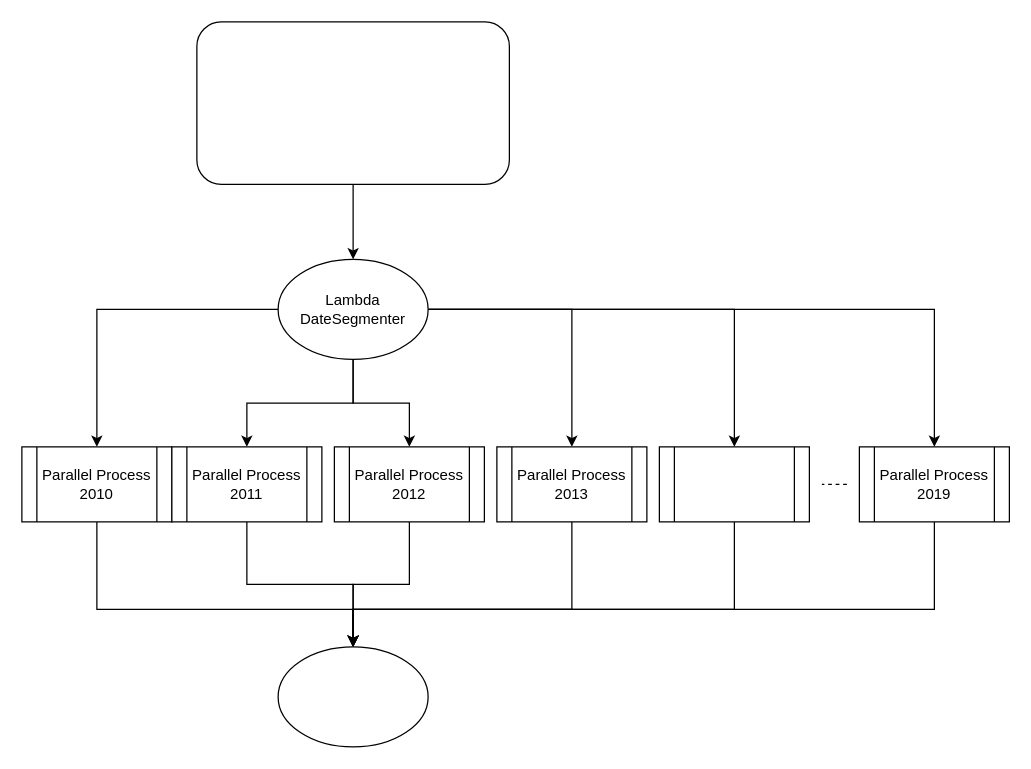
Some shapes in this 1031 by 769 pixel diagram are drawn without their labels. Here are the shapes that lost their labels. From the top down, the centre of each, then its label:
At [352,102]: "Input to Step Function: [2010-01-01, 2019-12-31]".
At [733,484]: "Parallel Process 2015".
At [352,696]: "Lambda Result Consolidation & Validation".
